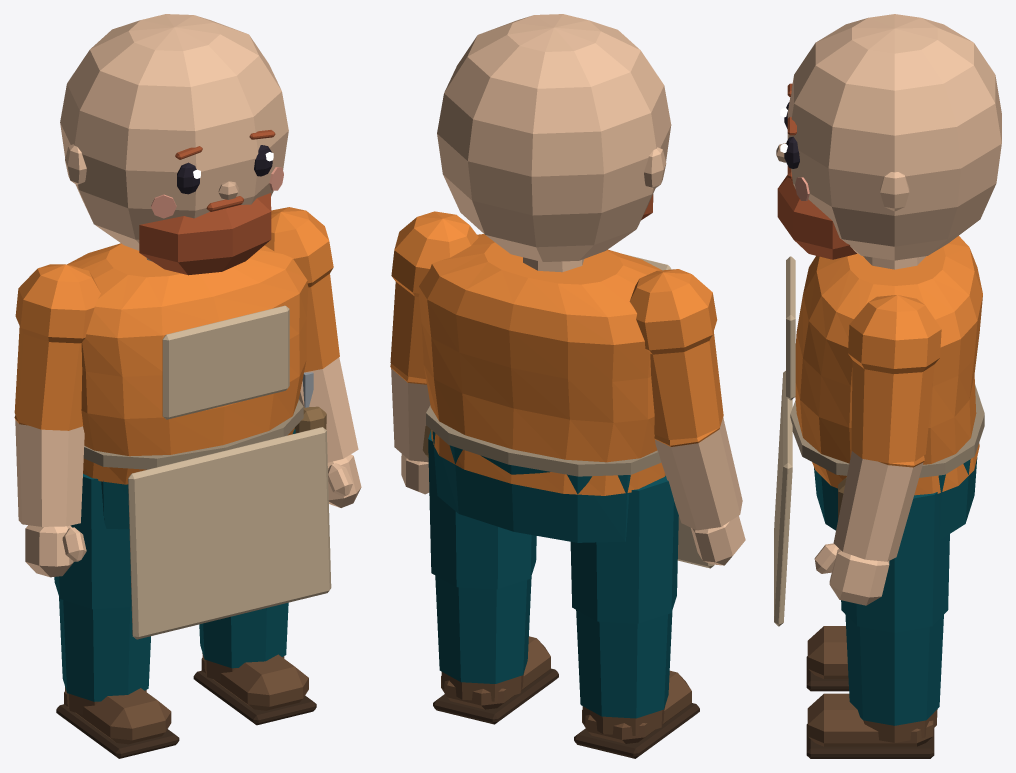
File: cor-n2.glb
3 renders of one model, left to right at view 1: azimuth 30°, elevation 25°; view 2: azimuth 150°, elevation 25°; view 3: azimuth 270°, elevation 25°, orthographic. The views are drawn at different scales.
Parts seen in each view (by area): view 1: schürze, kopf, torso, arm_r, bein_r, arm_l, bart, schuh_r, schuh_l, bein_l, hand_r, gesicht (+3 smaller); view 2: torso, kopf, bein_r, arm_r, bein_l, becken, arm_l, schürze, schuh_r, schuh_l, hand_r, hand_l; view 3: kopf, torso, arm_l, bein_l, schürze, schuh_l, bart, hand_l, becken, schuh_r, gesicht, hals.
Boxes of the visible parts, x1,y1,x2,y2 form: schürze: (83, 305, 331, 639); kopf: (60, 14, 288, 250); torso: (67, 243, 308, 484); arm_r: (14, 264, 100, 526); bein_r: (54, 474, 150, 701); arm_l: (264, 207, 358, 462); bart: (139, 193, 271, 275); schuh_r: (56, 687, 179, 758); schuh_l: (193, 653, 316, 725); bein_l: (199, 429, 295, 668); hand_r: (25, 525, 86, 577); gesicht: (151, 130, 283, 218); torso: (418, 234, 665, 495); kopf: (437, 14, 671, 261); bein_r: (570, 475, 678, 718); arm_r: (629, 269, 742, 530); bein_l: (428, 430, 536, 683); becken: (432, 431, 630, 542); arm_l: (390, 211, 478, 462); schürze: (426, 254, 714, 568); schuh_r: (574, 670, 699, 758); schuh_l: (433, 636, 558, 724); hand_r: (691, 515, 745, 565); hand_l: (401, 454, 429, 494); kopf: (787, 14, 1001, 260); torso: (795, 236, 982, 495); arm_l: (833, 295, 941, 561); bein_l: (841, 492, 949, 725); schürze: (774, 256, 984, 626); schuh_l: (806, 693, 937, 758); bart: (777, 166, 856, 259); hand_l: (814, 543, 889, 605); becken: (814, 457, 977, 540); schuh_r: (806, 626, 848, 691); gesicht: (776, 83, 809, 200); hals: (863, 256, 926, 269).
Bounding box in the file's own units: 0.0112 × 0.0216 × 0.00654.
